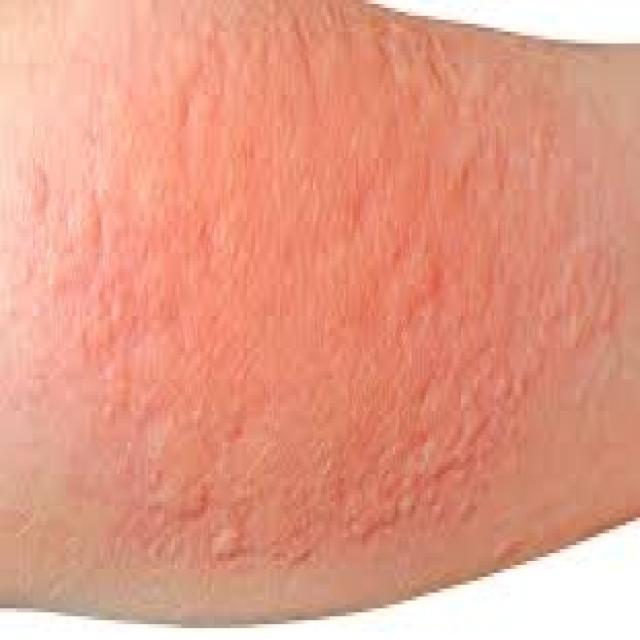Eczema: (57, 51, 598, 546)
